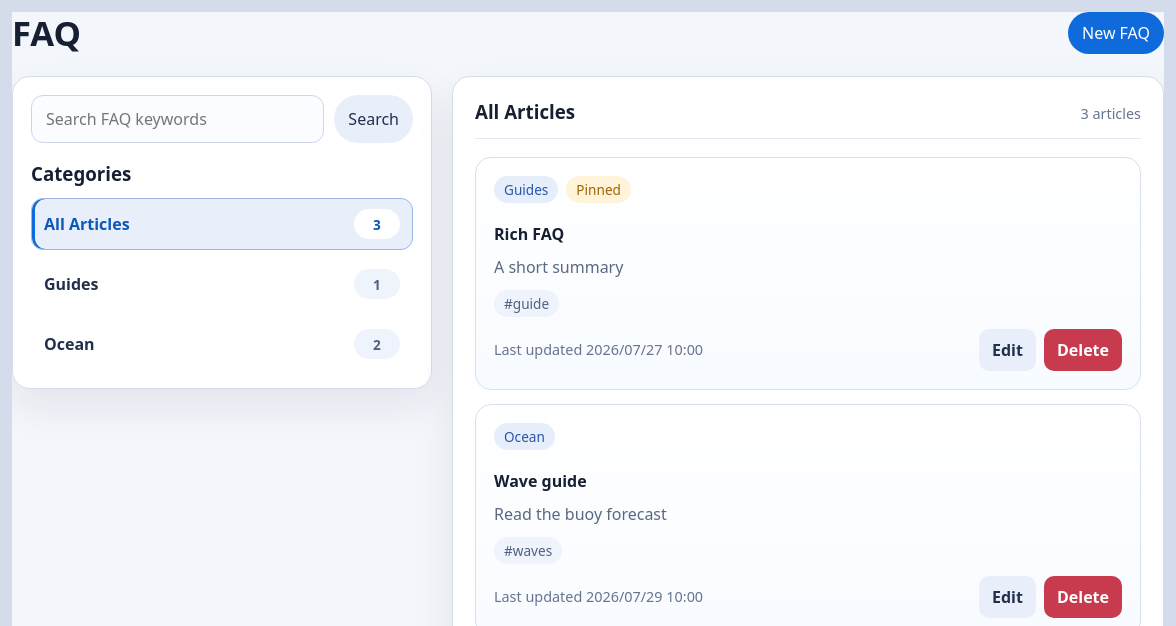
Test: FaqPage category browsing › updates old and new category counts after moving an article
Expected: the button "Guides 1" is shown, left=31, top=258, right=413, bottom=310
Click the button with aria-label "Edit Rich FAQ" at {"x": 1007, "y": 350}, box left=979, top=329, right=1036, bottom=371
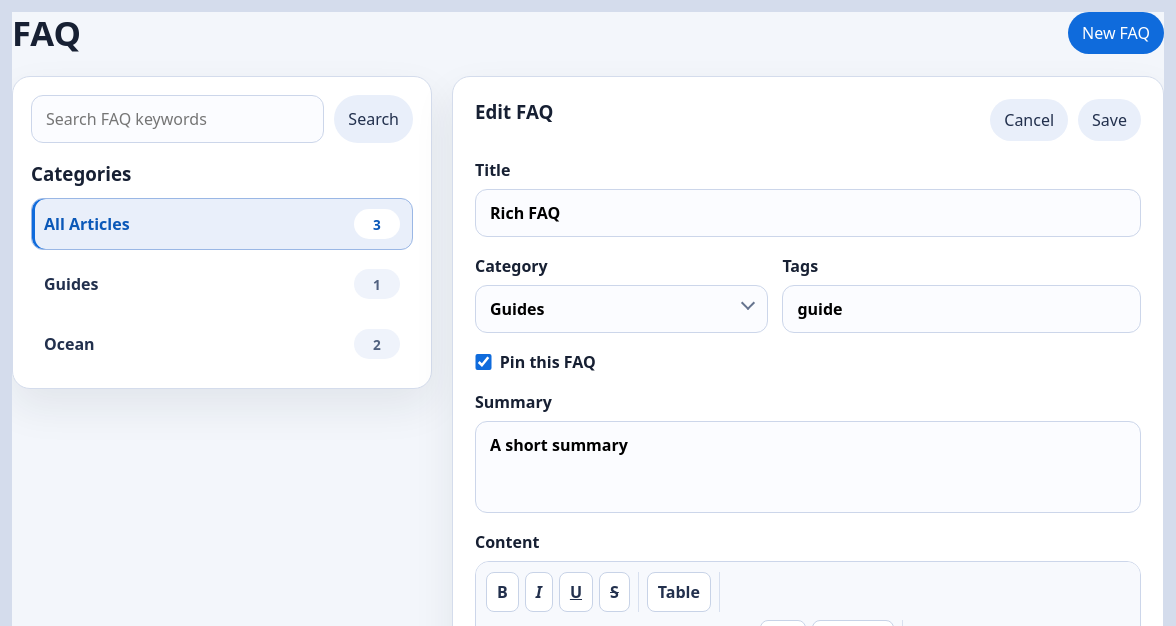
Replace the text in the field with placeholder "Enter or select a category" with "Ocean" at {"x": 622, "y": 309}, box left=475, top=285, right=768, bottom=333
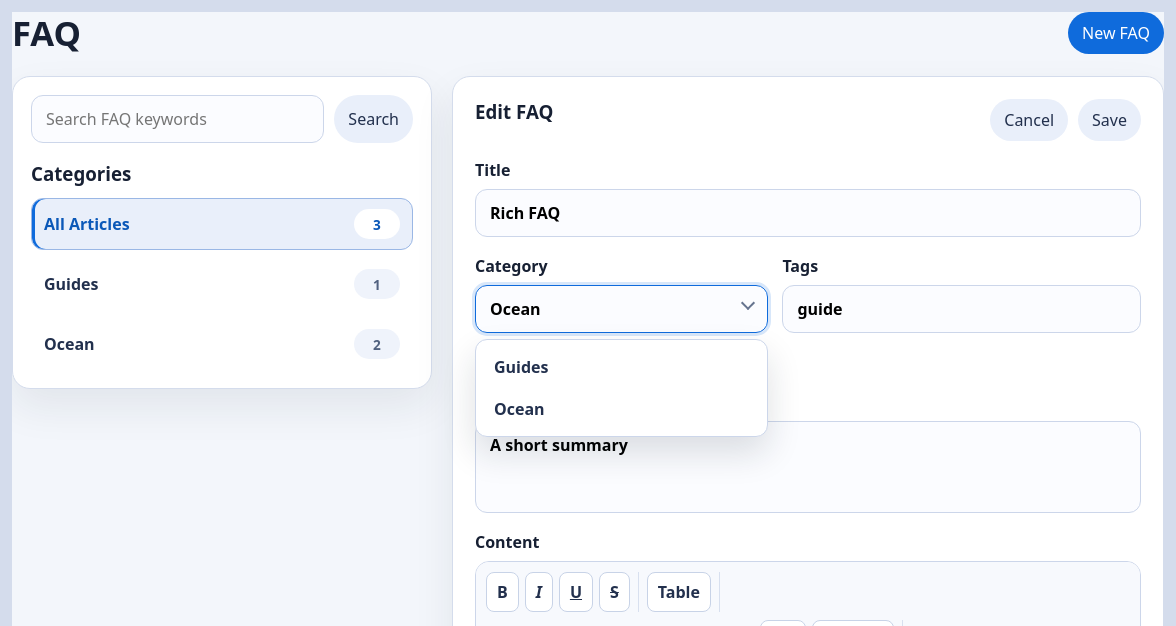
Click the button "Save" at {"x": 1110, "y": 120}, box left=1078, top=99, right=1141, bottom=141
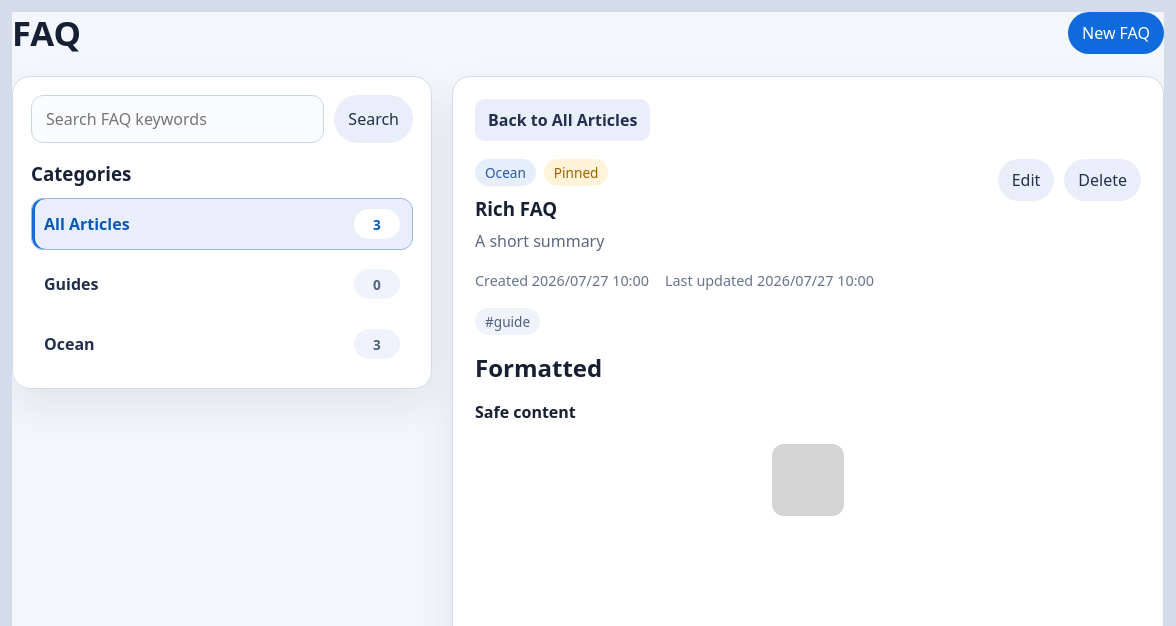
Expected: the button "Ocean 3" is shown, left=31, top=318, right=413, bottom=370
Expected: the button "Guides 1" is gone
Expected: the button "Back to All Articles" is shown, left=475, top=99, right=650, bottom=141
